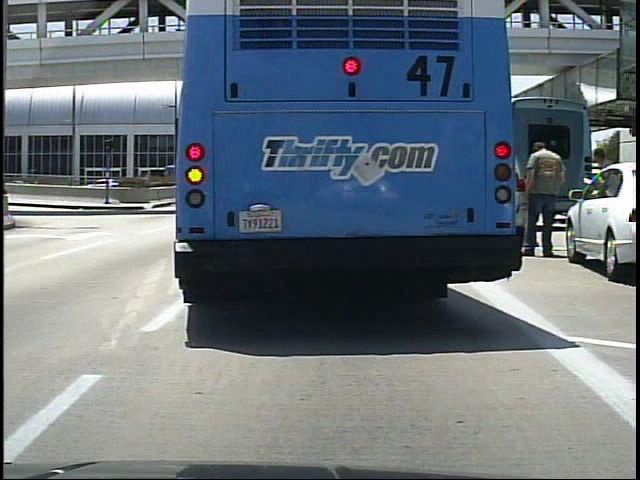person: (525, 137, 567, 261), (587, 145, 614, 246)
